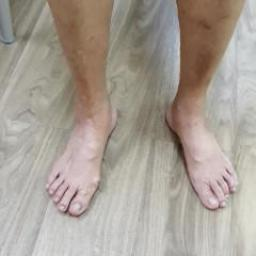Dorsal View -Both Feet-: (34, 81, 252, 230)
